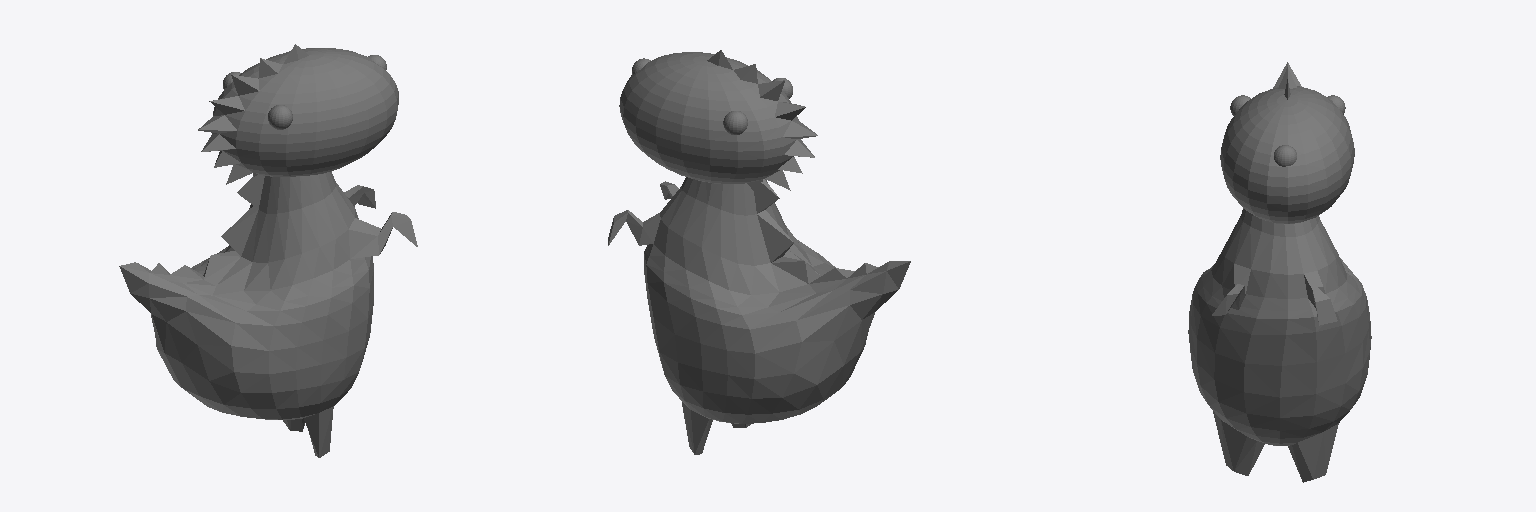
File: dino.obj
3 views of the same model, side by side, from view 1: azimuth 30°, elevation 25°; view 2: azimuth 150°, elevation 25°; view 3: azimuth 270°, elevation 25° (orthographic).
Parts seen in each view (by area): view 1: pasted__pasted__group1_pasted__pSphere3_pasted__polySurface4 gro; view 2: pasted__pasted__group1_pasted__pSphere3_pasted__polySurface4 gro; view 3: pasted__pasted__group1_pasted__pSphere3_pasted__polySurface4 gro.
Part boxes in pixels (left/top/right/bottom): pasted__pasted__group1_pasted__pSphere3_pasted__polySurface4 gro: left=119, top=44, right=417, bottom=457; pasted__pasted__group1_pasted__pSphere3_pasted__polySurface4 gro: left=608, top=50, right=910, bottom=454; pasted__pasted__group1_pasted__pSphere3_pasted__polySurface4 gro: left=1188, top=62, right=1371, bottom=482.
Size of the model in its own units: 0.4008 by 0.5441 by 0.2272.